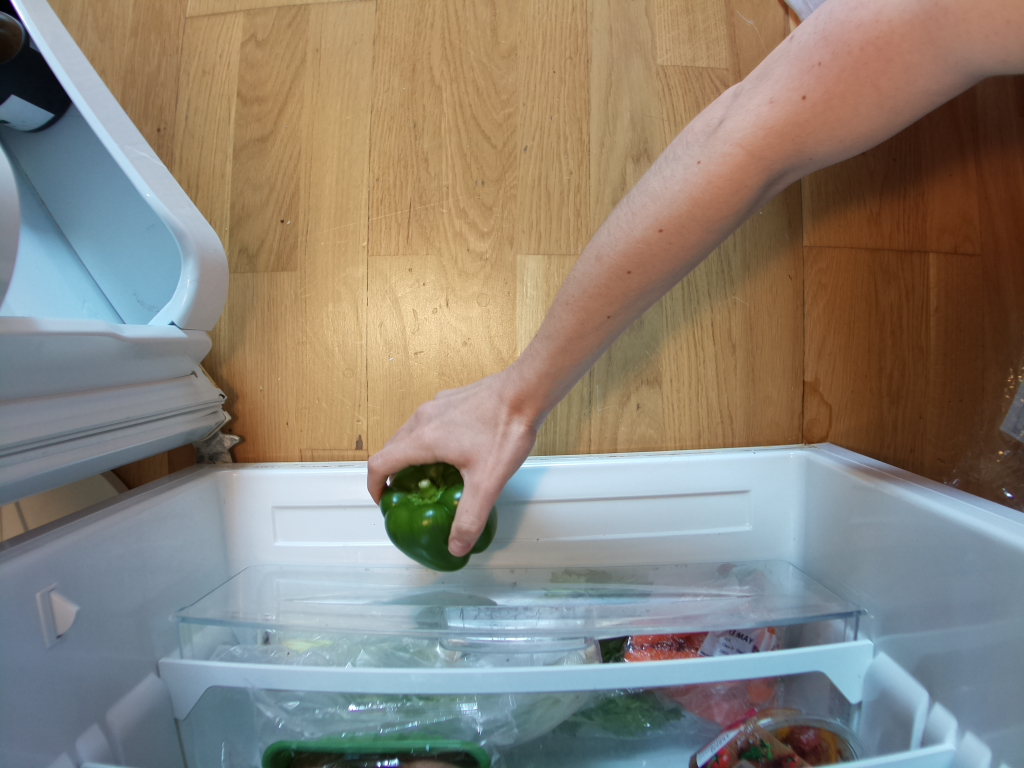pepper: (379, 460, 498, 575)
